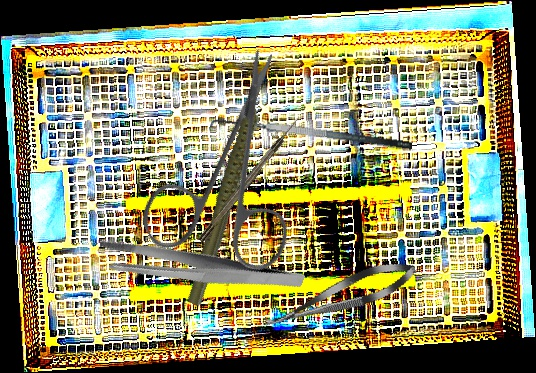Dressing Forceps: (92, 195, 307, 341)
Handpiece: (143, 75, 321, 309)
Hook Surgical: (196, 116, 302, 244)
Iris Scissors: (95, 44, 362, 311)
Micro Scissor: (259, 252, 421, 340)
Spatula Surgical: (208, 108, 413, 168)
